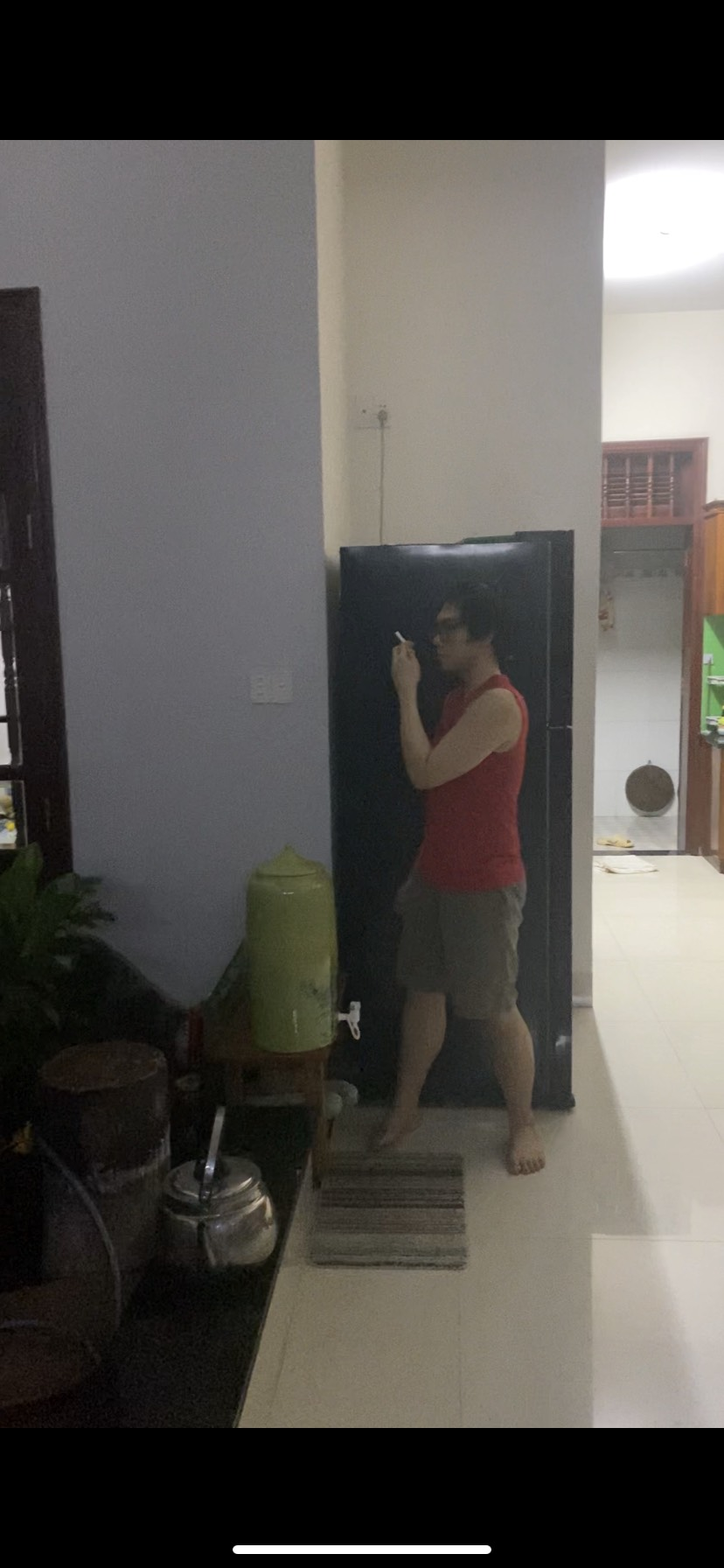cigarette: (392, 627, 407, 644)
person: (379, 554, 546, 1186)
